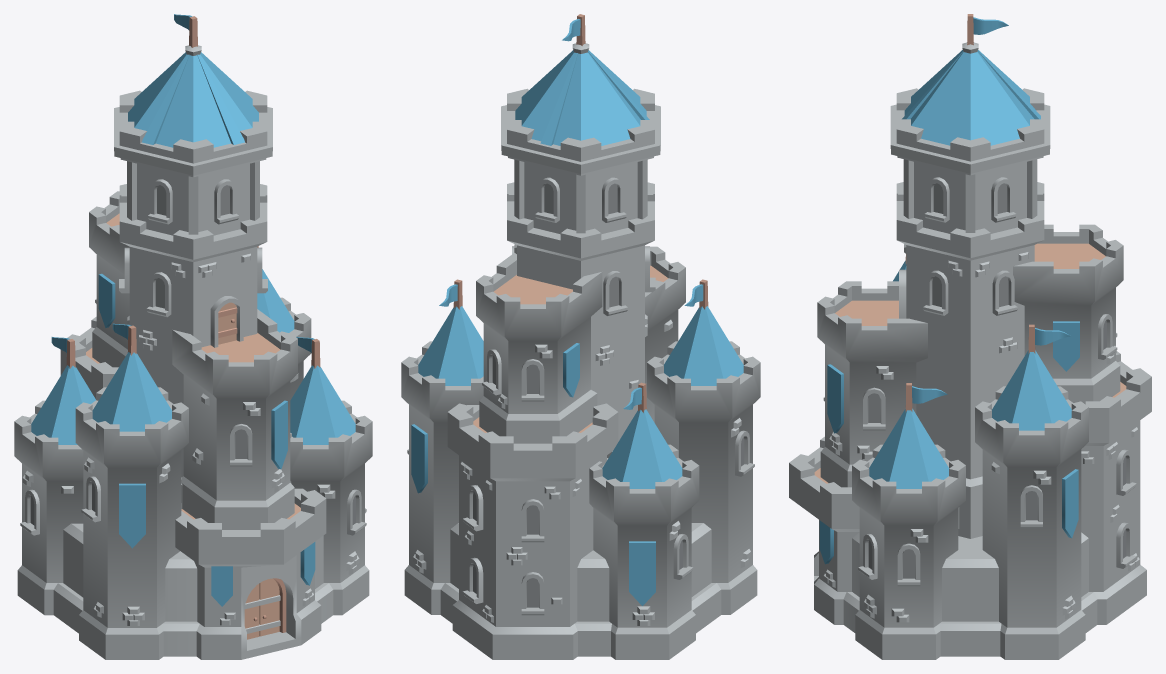
File: castle_part.glb
3 views of the same model, side by side, from view 1: azimuth 30°, elevation 25°; view 2: azimuth 150°, elevation 25°; view 3: azimuth 270°, elevation 25° (orthographic).
Parts seen in each view (by area): view 1: X_building_castle_blue; view 2: X_building_castle_blue; view 3: X_building_castle_blue.
Part boxes in pixels (left/top/right/bottom): X_building_castle_blue: left=14, top=14, right=372, bottom=659; X_building_castle_blue: left=401, top=14, right=760, bottom=659; X_building_castle_blue: left=789, top=14, right=1151, bottom=659.
Size of the model in its own units: 1.98 by 3.98 by 2.26.
